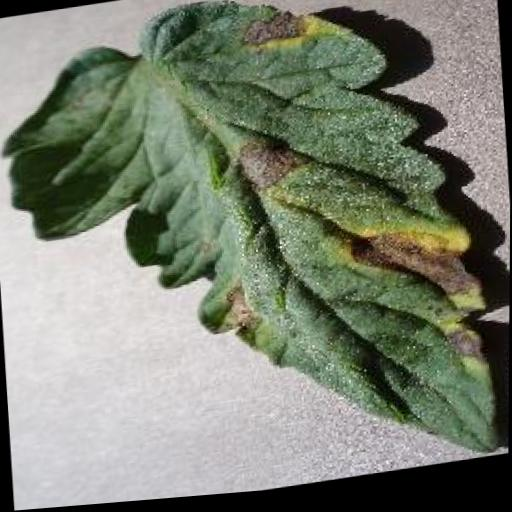Early Blight: (0, 0, 502, 512)
